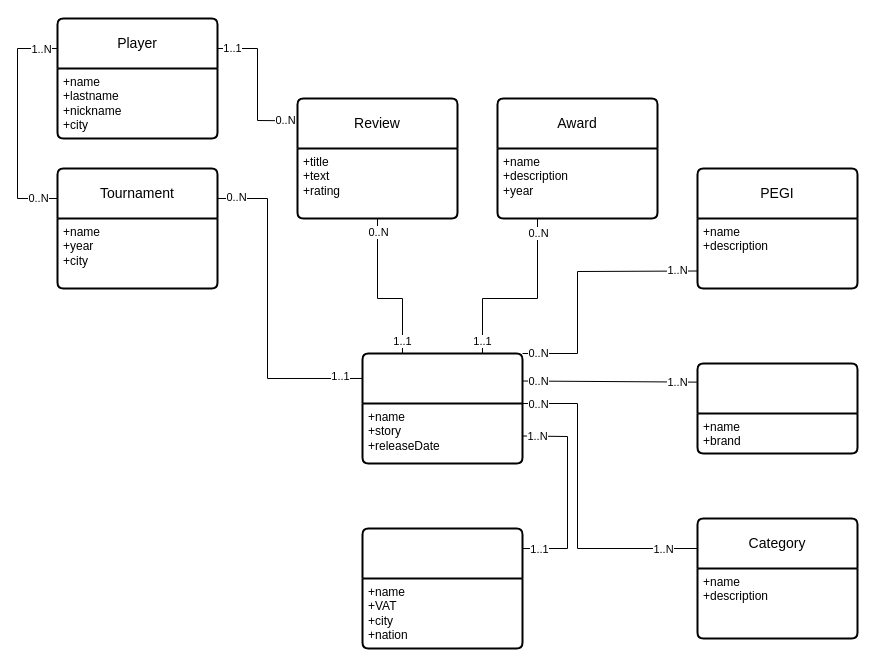
Some shapes in this 876 by 666 pixel diagram are drawn without their labels. Each missing label, with the box of its shape:
Platform: (696, 362, 858, 454)
SoftwareHouse: (361, 527, 523, 649)
Videogame: (361, 352, 523, 464)
